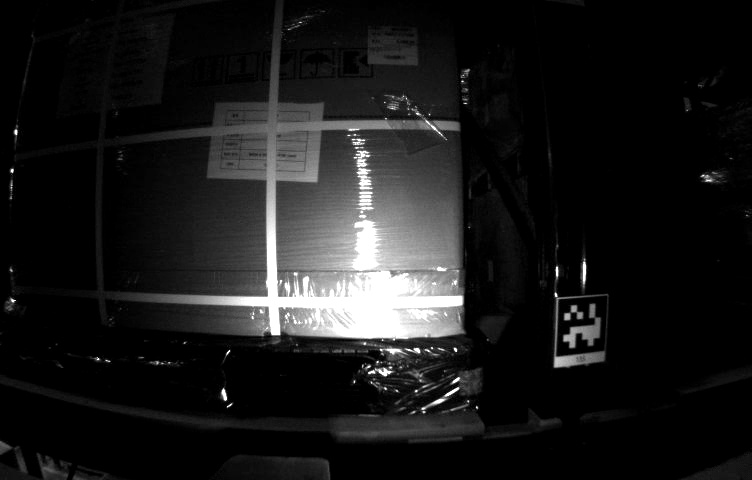True Barcode: (368, 29, 418, 62)
